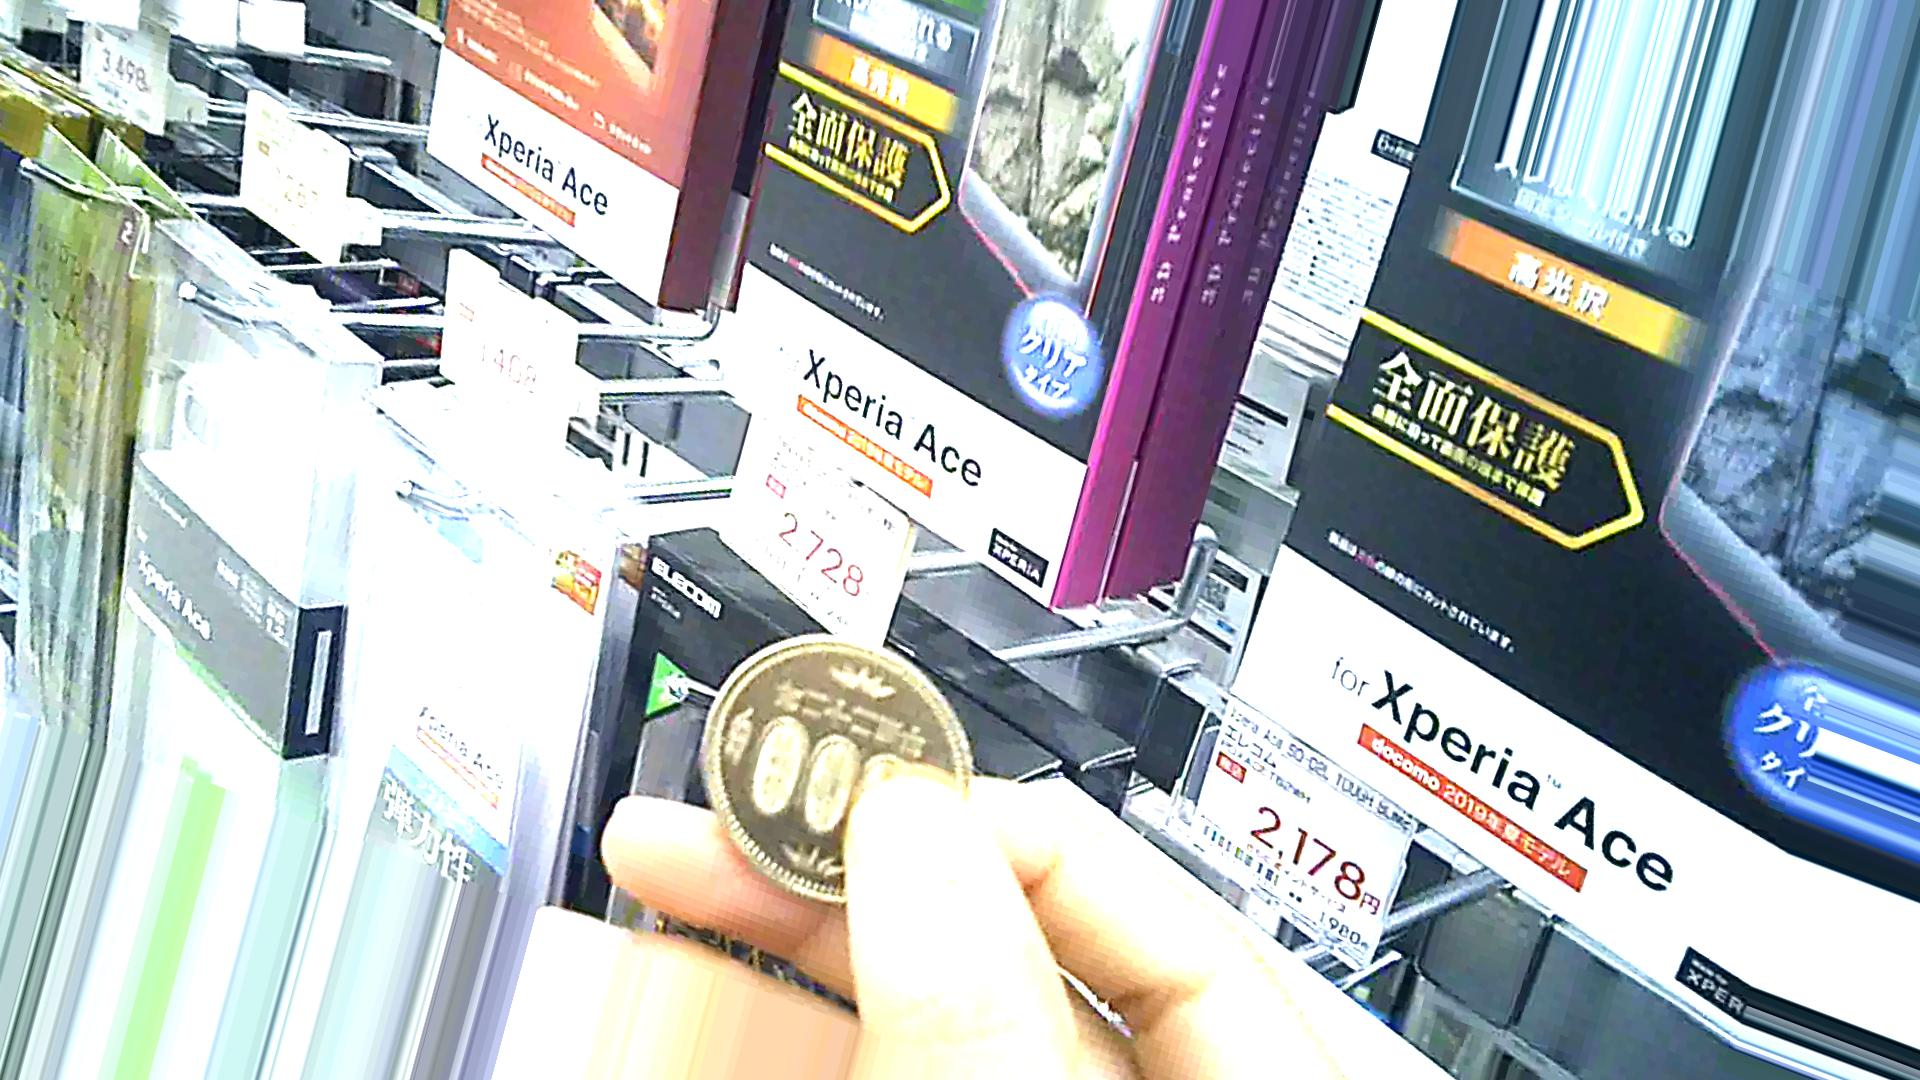500 Yen: (699, 622, 986, 895)
